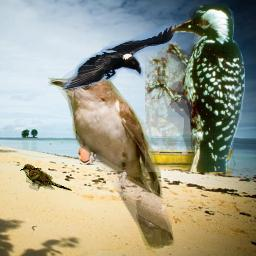Crow: (62, 23, 177, 90)
Cuckoo: (48, 69, 175, 251), (20, 164, 72, 191)
Woodpecker: (145, 4, 245, 172)
